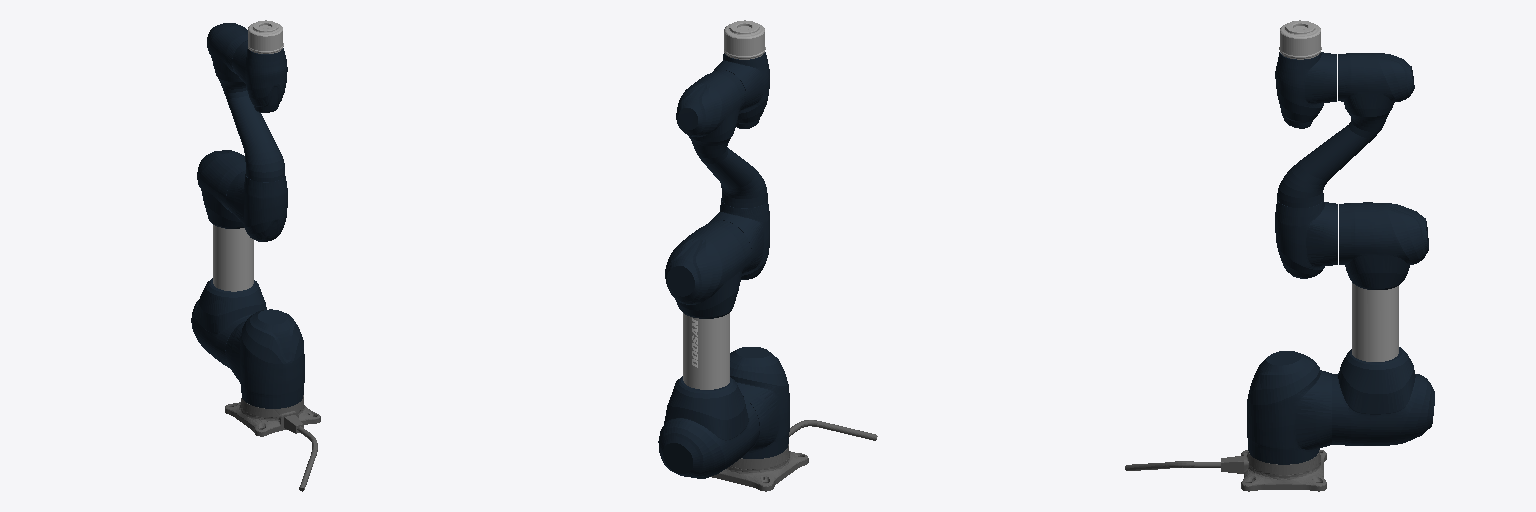
The robot description file, URDF, robot "m1509":
<?xml version="1.0" ?>
<robot name="m1509">

  <link name="base"/>
  <joint name="fixed" type="fixed">
    <parent link="base"/>
    <child link="base_0"/>
  </joint>
  
  <link name="base_0">
	<inertial>
	  <mass value="3.722"/>
	  <origin xyz="-1.2e-05 -6e-05 0.050723"/>
      <inertia ixx="0.011" ixy="-7.19e-06" ixz="-1.94e-06" iyy="0.011" iyz="4.9e-06" izz="0.014"/>
    </inertial>
	<visual>
      <origin rpy="0 0 0" xyz="0 0 0"/>
      <geometry>
        <mesh filename="package://dsr_description2/meshes/m1509_blue/MF1509_0_0.dae" scale="0.001 0.001 0.001"/>
      </geometry>
    </visual>
  </link>

  <joint name="joint1" type="revolute">
    <parent link="base_0"/>
    <child link="link1"/>
    <origin rpy="0 0 0" xyz="0 0 0.1525"/>
    <axis xyz="0 0 1"/>
    <limit effort="30" lower="-2.617" upper="2.617" velocity="1.571"/>
  </joint>

  <link name="link1">
	<inertial>
	  <mass value="7.446"/>
	  <origin xyz="7e-05 0.044281 0.143327"/>
      <inertia ixx="0.039" ixy="2.1e-05" ixz="-3.61e-05" iyy="0.023" iyz="-0.003" izz="0.039"/>
    </inertial>
    <visual>
      <origin rpy="0 0 0" xyz="0 0 0"/>
      <geometry>
        <mesh filename="package://dsr_description2/meshes/m1509_blue/MF1509_1_0.dae" scale="0.001 0.001 0.001"/>
      </geometry>
    </visual>
  </link>
  
  <joint name="joint2" type="revolute">
    <parent link="link1"/>
    <child link="link2"/>
    <origin rpy="0 -1.571 -1.571" xyz="0 0.0345 0"/>
    <axis xyz="0 0 1"/>
    <limit effort="30" lower="-2.617" upper="2.617" velocity="1.571"/>
  </joint>

  <link name="link2">
	<inertial>
	  <mass value="10.569"/>
	  <origin xyz="-1.6e-05 0.189372 0.418558"/>
      <inertia ixx="0.820" ixy="1.19e-05" ixz="-0.000263" iyy="0.82" iyz="-0.008" izz="0.031"/>
    </inertial>
    <visual>
      <origin rpy="0 0 0" xyz="0 0 0"/>
      <geometry>
        <mesh filename="package://dsr_description2/meshes/m1509_blue/MF1509_2_0.dae" scale="0.001 0.001 0.001"/>
      </geometry>
    </visual>
    <visual>
      <origin rpy="0 0 0" xyz="0 0 0"/>
      <geometry>     
		<mesh filename="package://dsr_description2/meshes/m1509_blue/MF1509_2_1.dae" scale="0.001 0.001 0.001"/>
      </geometry>
	  </visual>
    <visual>
      <origin rpy="0 0 0" xyz="0 0 0"/>
      <geometry>     
		<mesh filename="package://dsr_description2/meshes/m1509_blue/MF1509_2_2.dae" scale="0.001 0.001 0.001"/>
      </geometry>
    </visual>	
  </link>

  <joint name="joint3" type="revolute">
    <parent link="link2"/>
    <child link="link3"/>
    <origin rpy="0 0 1.571" xyz="0.411 0 0"/>
    <axis xyz="0 0 1"/>
    <limit effort="30" lower="-2.617" upper="2.617" velocity="1.571"/>
  </joint>
  
  <link name="link3">
	<inertial>
	  <mass value="3.614"/>
	  <origin xyz="6e-06 0.07917 0.781807"/>
      <inertia ixx="0.012" ixy="-4.38e-06" ixz="-1.2e-06" iyy="0.008" iyz="0.002" izz="0.011"/>
    </inertial>
    <visual>
      <origin rpy="0 0 0" xyz="0 0 0"/>
      <geometry>     
		<mesh filename="package://dsr_description2/meshes/m1509_blue/MF1509_3_0.dae" scale="0.001 0.001 0.001"/>
      </geometry>
    </visual>
  </link>

  <joint name="joint4" type="revolute">
    <parent link="link3"/>
    <child link="link4"/>
    <origin rpy="1.571 0 0" xyz="0 -0.368 0"/>
    <axis xyz="0 0 1"/>
    <limit effort="30" lower="-2.617" upper="2.617" velocity="1.571"/>
  </joint>
  
  <link name="link4">
	<inertial>
	  <mass value="3.785"/>
	  <origin xyz="-2.1e-05 0.12337 1.148"/>
      <inertia ixx="0.177" ixy="-2.34e-06" ixz="-4.92e-06" iyy="0.161" iyz="-0.05" izz="0.022"/>
    </inertial>
    <visual>
      <origin rpy="0 0 0" xyz="0 0 0"/>
      <geometry>     
		<mesh filename="package://dsr_description2/meshes/m1509_blue/MF1509_4_0.dae" scale="0.001 0.001 0.001"/>
      </geometry>
    </visual>
    <visual>
      <origin rpy="0 0 0" xyz="0 0 0"/>
      <geometry>     
		<mesh filename="package://dsr_description2/meshes/m1509_blue/MF1509_4_1.dae" scale="0.001 0.001 0.001"/>
      </geometry>
    </visual>
  </link>

  <joint name="joint5" type="revolute">
    <parent link="link4"/>
    <child link="link5"/>
    <origin rpy="-1.571 0 0" xyz="0 0 0"/>
    <axis xyz="0 0 1"/>
    <limit effort="30" lower="-2.617" upper="2.617" velocity="1.571"/>
  </joint>
  
  <link name="link5">
	<inertial>
	  <mass value="2.598"/>
	  <origin xyz="-1.7e-05 0.06662 1.33103"/>
      <inertia ixx="0.007" ixy="-4.93e-06" ixz="-5.57e-06" iyy="0.004" iyz="-6.64e-05" izz="0.007"/>
    </inertial>
    <visual>
      <origin rpy="0 0 0" xyz="0 0 0"/>
      <geometry>     
		<mesh filename="package://dsr_description2/meshes/m1509_blue/MF1509_5_0.dae" scale="0.001 0.001 0.001"/>
      </geometry>
    </visual>
  </link>

  <joint name="joint6" type="revolute">
    <parent link="link5"/>
    <child link="link6"/>
    <origin rpy="1.571 0 0" xyz="0 -0.121 0"/>
    <axis xyz="0 0 1"/>
    <limit effort="30" lower="-2.617" upper="2.617" velocity="1.571"/>
  </joint>
  
  <link name="link6">
	<inertial>
	  <mass value="1.128"/>
	  <origin xyz="-0.000174 0.034708 1.40022"/>
      <inertia ixx="0.001" ixy="-2.79e-06" ixz="5.78e-06" iyy="0.001" iyz="-6.67e-06" izz="0.001"/>
    </inertial>
    <visual>
      <origin rpy="0 0 0" xyz="0 0 0"/>
      <geometry>     
		<mesh filename="package://dsr_description2/meshes/m1509_blue/MF1509_6_0.dae" scale="0.001 0.001 0.001"/>
      </geometry>
    </visual>
  </link>
  
</robot>

--- What the picture shows (computed from the rendered views, not written in the file) ---
3 views of the same robot in one strip: view 1: azimuth 30°, elevation 25°; view 2: azimuth 150°, elevation 25°; view 3: azimuth 270°, elevation 25° (orthographic).
Model m1509 with 8 links and 7 joints (6 revolute, 1 fixed), rooted at base, posed all joints at 0.
Visible links, largest first — view 1: link2, link1, link4, link3, link5, base_0, link6; view 2: link2, link4, link1, base_0, link5, link3, link6; view 3: link2, link1, link4, link3, link5, base_0, link6.
Boxes of the visible links, x1=… form: link2: x1=191, y1=150, x2=266, y2=368; link1: x1=225, y1=309, x2=304, y2=408; link4: x1=207, y1=23, x2=284, y2=181; link3: x1=226, y1=170, x2=287, y2=241; link5: x1=232, y1=41, x2=287, y2=112; base_0: x1=225, y1=395, x2=320, y2=491; link6: x1=248, y1=20, x2=283, y2=53; link2: x1=658, y1=220, x2=759, y2=478; link4: x1=676, y1=70, x2=767, y2=207; link1: x1=730, y1=347, x2=789, y2=458; base_0: x1=711, y1=420, x2=877, y2=491; link5: x1=713, y1=52, x2=769, y2=128; link3: x1=709, y1=198, x2=769, y2=279; link6: x1=724, y1=20, x2=765, y2=59; link2: x1=1332, y1=202, x2=1434, y2=445; link1: x1=1247, y1=351, x2=1331, y2=464; link4: x1=1277, y1=53, x2=1414, y2=207; link3: x1=1275, y1=200, x2=1337, y2=278; link5: x1=1275, y1=52, x2=1336, y2=128; base_0: x1=1125, y1=450, x2=1326, y2=491; link6: x1=1279, y1=20, x2=1321, y2=59.
Size in the robot's own frame: 0.2064 by 0.662 by 1.1 metres.
Meshes: 10 distinct files referenced, 10 mesh visuals loaded (10 Collada DAE).